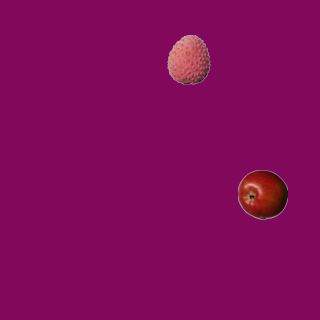Apple Braeburn: (237, 169, 287, 219)
Lychee: (163, 34, 213, 84)
